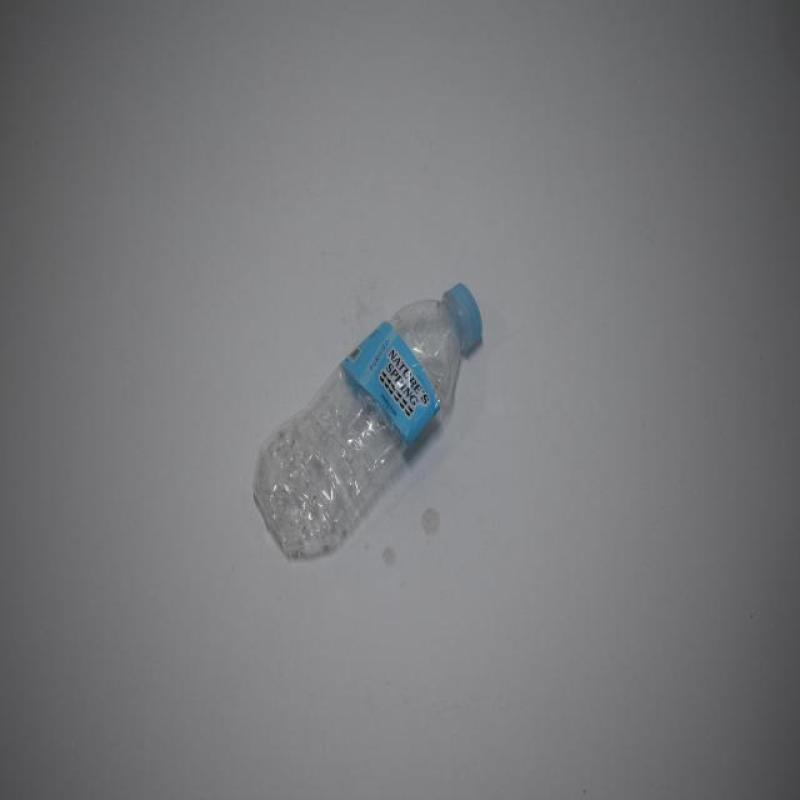botella: (253, 283, 483, 556)
